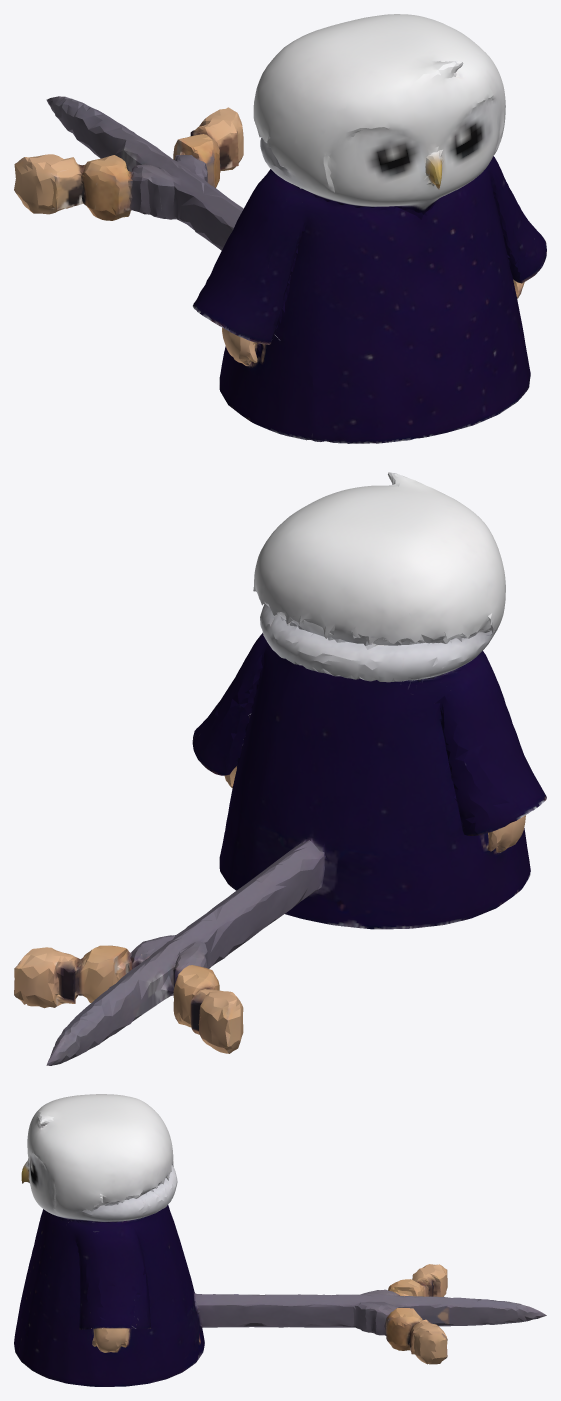
Rendered from rodin_Npc_Snowl_raw.glb.
3 views of the same model, one above another, from view 1: azimuth 30°, elevation 25°; view 2: azimuth 150°, elevation 25°; view 3: azimuth 270°, elevation 25° (orthographic). The views are drawn at different scales.
Parts seen in each view (by area): view 1: model; view 2: model; view 3: model.
Boxes of the visible parts, <box> form: model: <box>14,14,546,443</box>; model: <box>14,472,546,1065</box>; model: <box>14,1094,546,1386</box>.
Size of the model in its own units: 0.9254 by 0.9462 by 1.9.
1 material, 1 textured.
